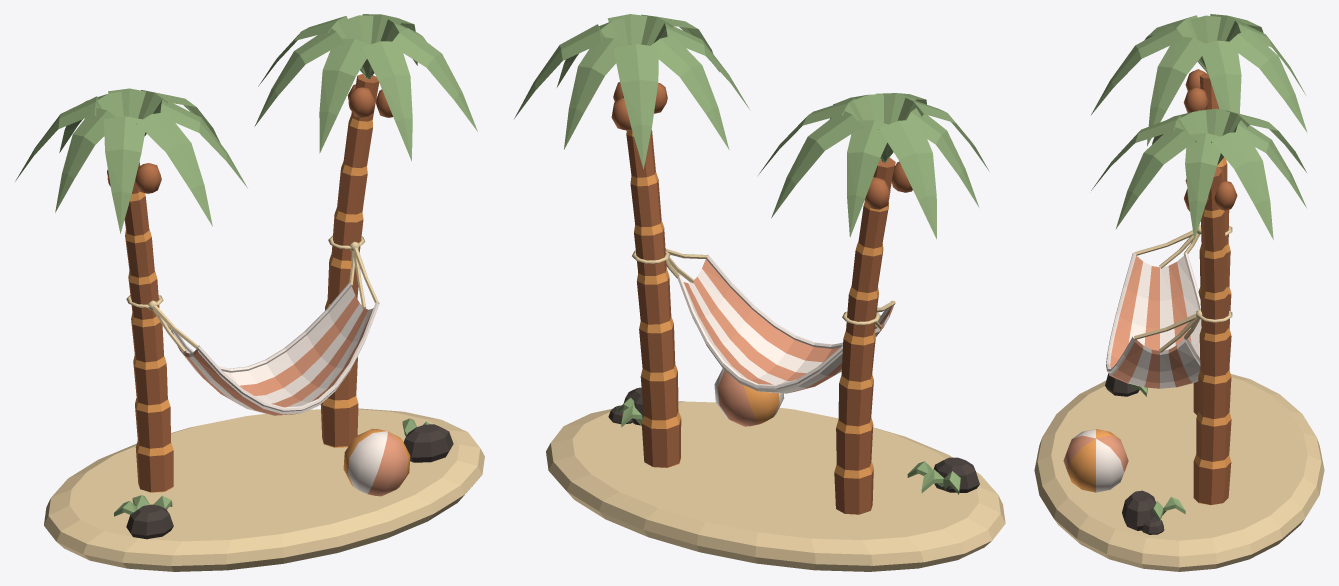
File: palmHammock.glb
The picture shows the model from 3 angles, left to right: view 1: azimuth 30°, elevation 25°; view 2: azimuth 150°, elevation 25°; view 3: azimuth 270°, elevation 25°; orthographic projection. The views are drawn at different scales.
Parts seen in each view (by area): view 1: palmHammock; view 2: palmHammock; view 3: palmHammock.
Boxes of the visible parts, box(x1,y1,x2,y2) form: palmHammock: box(15, 14, 484, 571); palmHammock: box(514, 14, 1005, 571); palmHammock: box(1034, 14, 1324, 571).
Bounding box in the file's own units: 3.8 × 3.8 × 2.4.
1 material, 1 textured.
